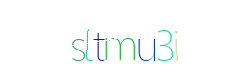3: (93, 0, 173, 80)
I: (99, 0, 179, 80)
L: (71, 0, 151, 80)
M: (82, 0, 162, 80)
S: (47, 0, 127, 80)
T: (79, 0, 159, 80)
U: (85, 0, 165, 80)
